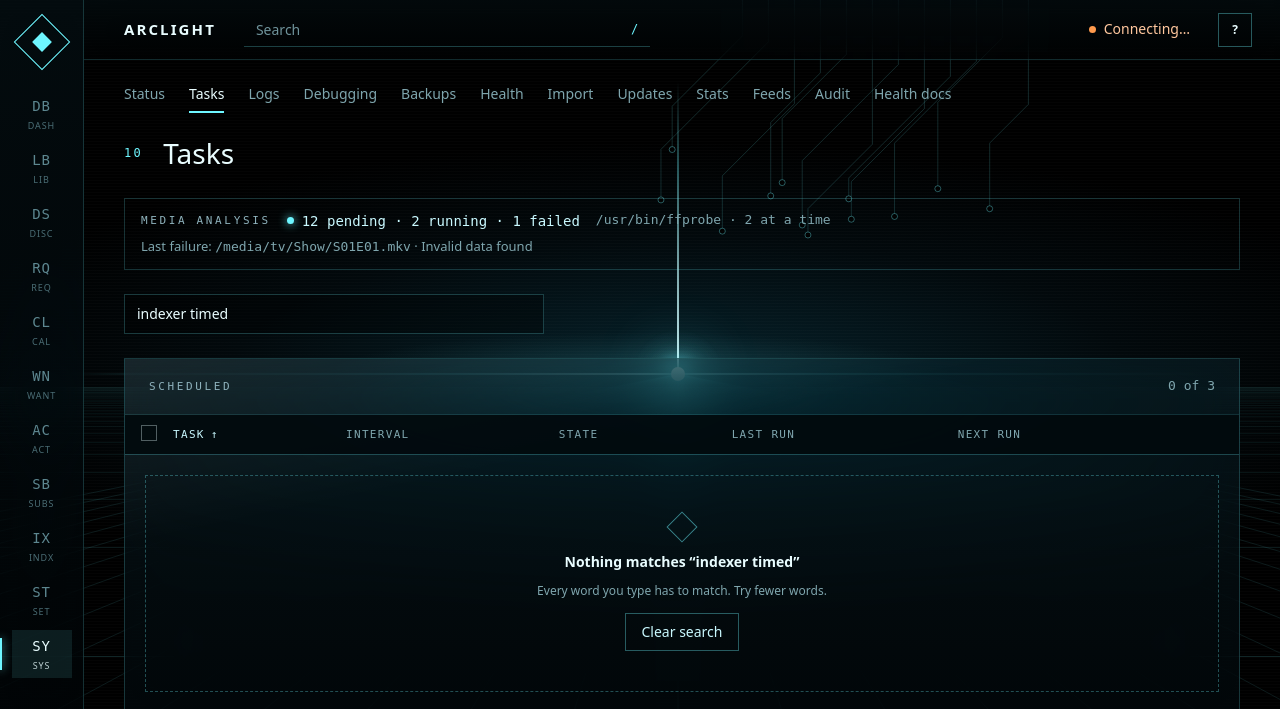
System → Tasks search › matches the failure cause and clears from the empty state
The width and height of the screenshot is (1280, 709).
Step 1. Click the button "Clear search" → (682, 632), box [624, 613, 740, 651]
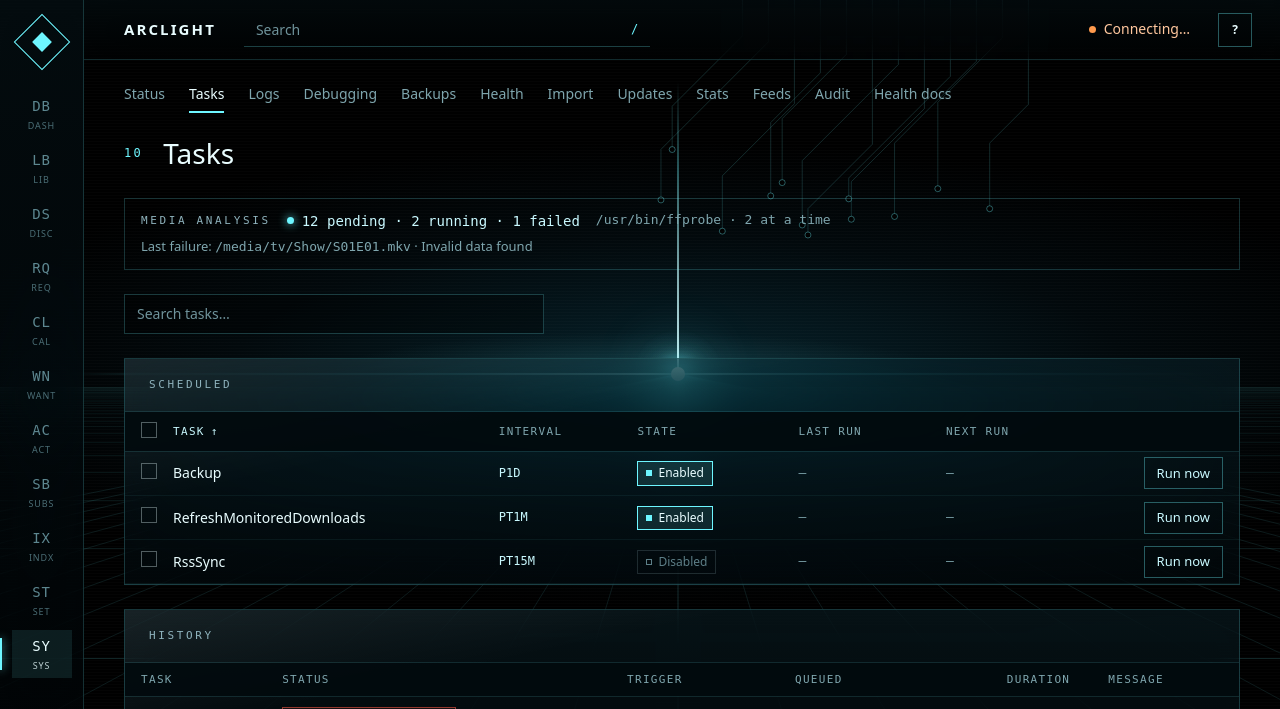
Check: the text "Backup" is shown, box [157, 452, 483, 496]
Check: the search field named "Search this list" is empty, box [124, 294, 544, 334]
